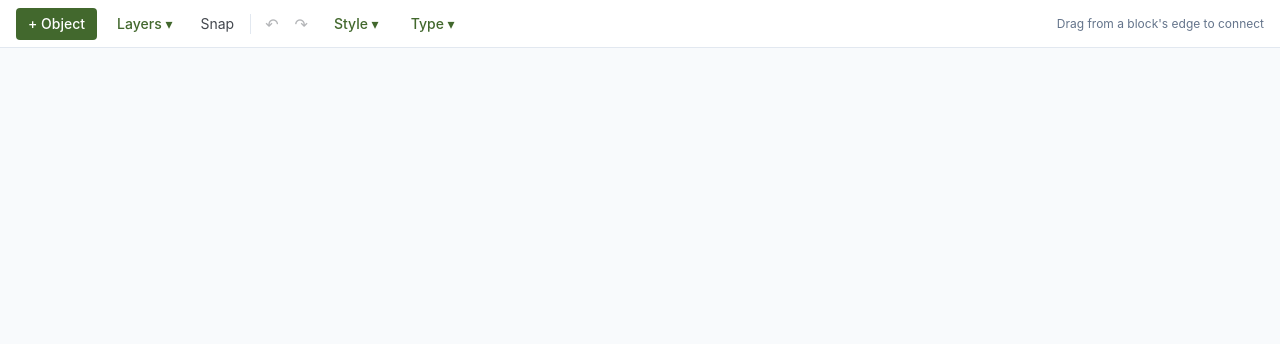
Test: ArchitectureCanvas › contextual segment › offers Border and Line style when an object is selected
Click the button "Style ▾" at (356, 24), box [322,8,391,40]
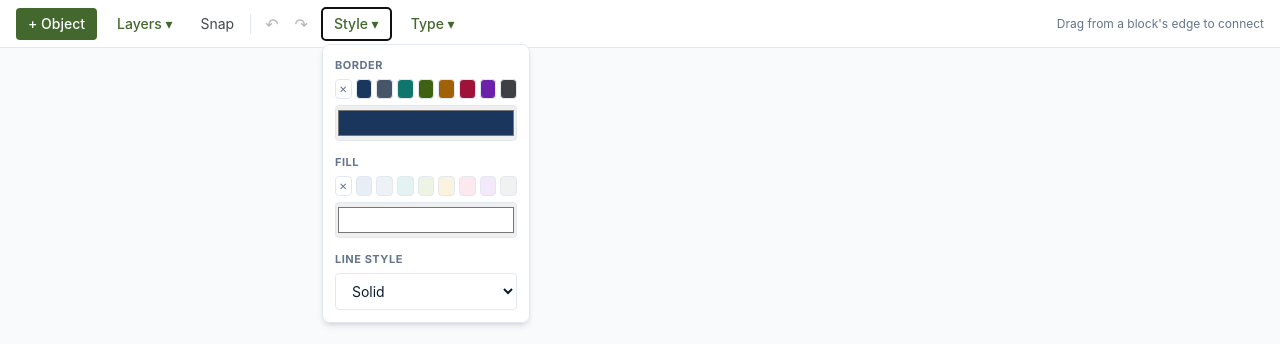
Expected: the colour field named "Border" is shown, [335,104,517,140]
Expected: the dropdown named "Line style" is shown, [335,272,517,310]
